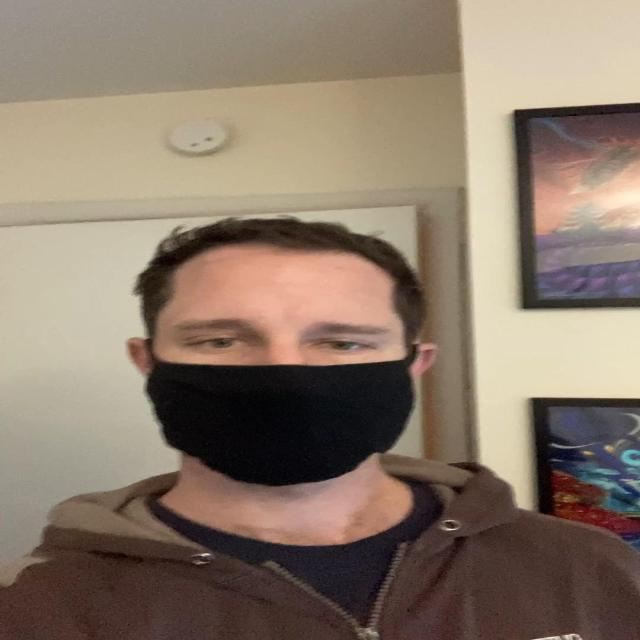no-helmet: (149, 240, 417, 486)
